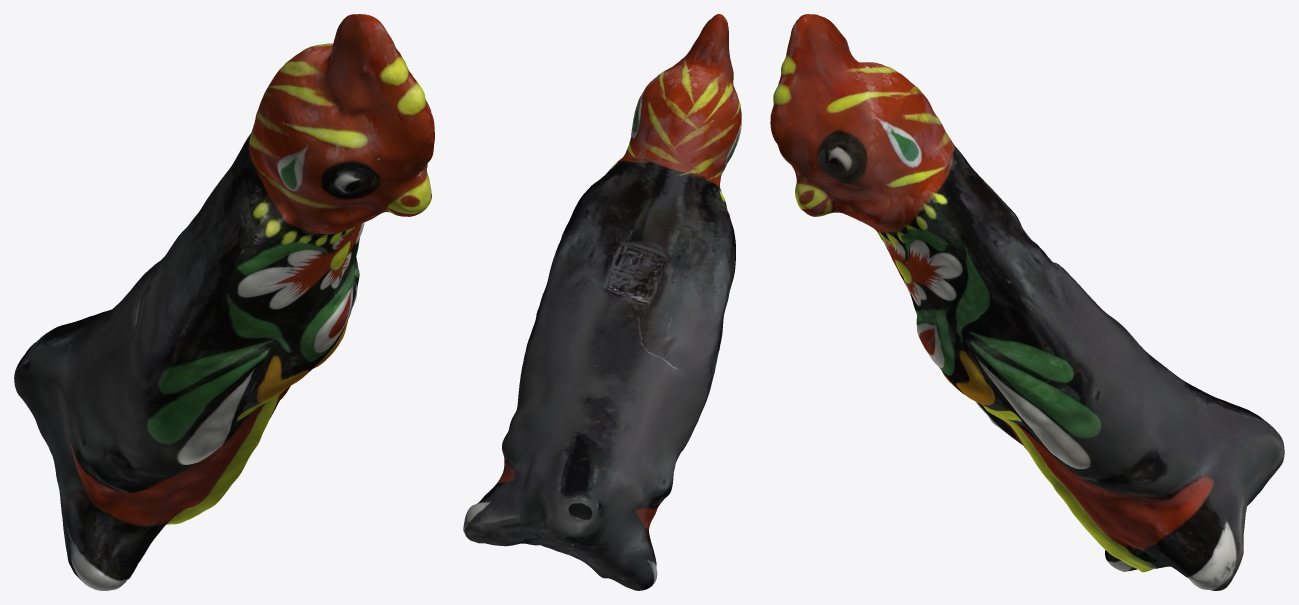
3 renders of one model, left to right at view 1: azimuth 30°, elevation 25°; view 2: azimuth 150°, elevation 25°; view 3: azimuth 270°, elevation 25°, orthographic. The views are drawn at different scales.
Bounding box in the file's own units: 0.3159 × 0.8859 × 0.7078.
Materials: 1 (1 with a texture image).
